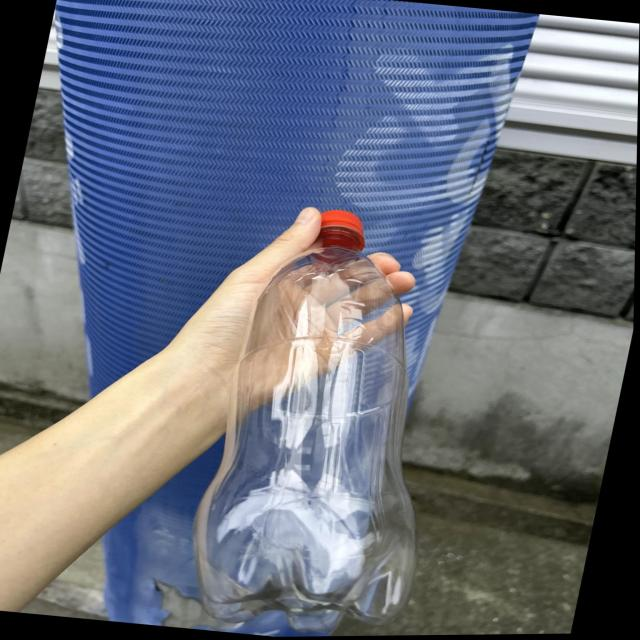empty: (194, 211, 415, 633)
